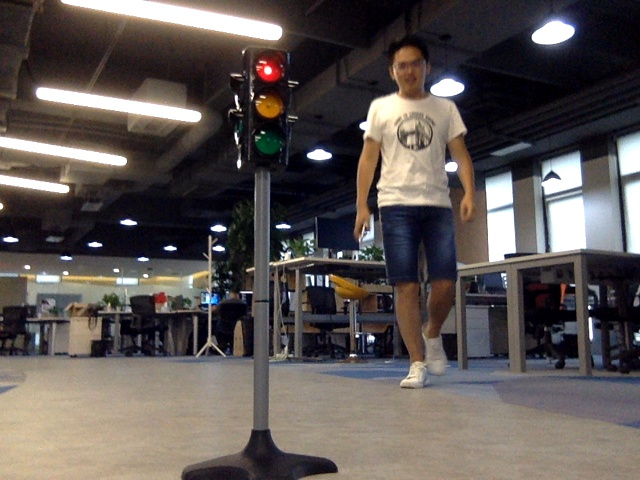red: (249, 54, 285, 157)
